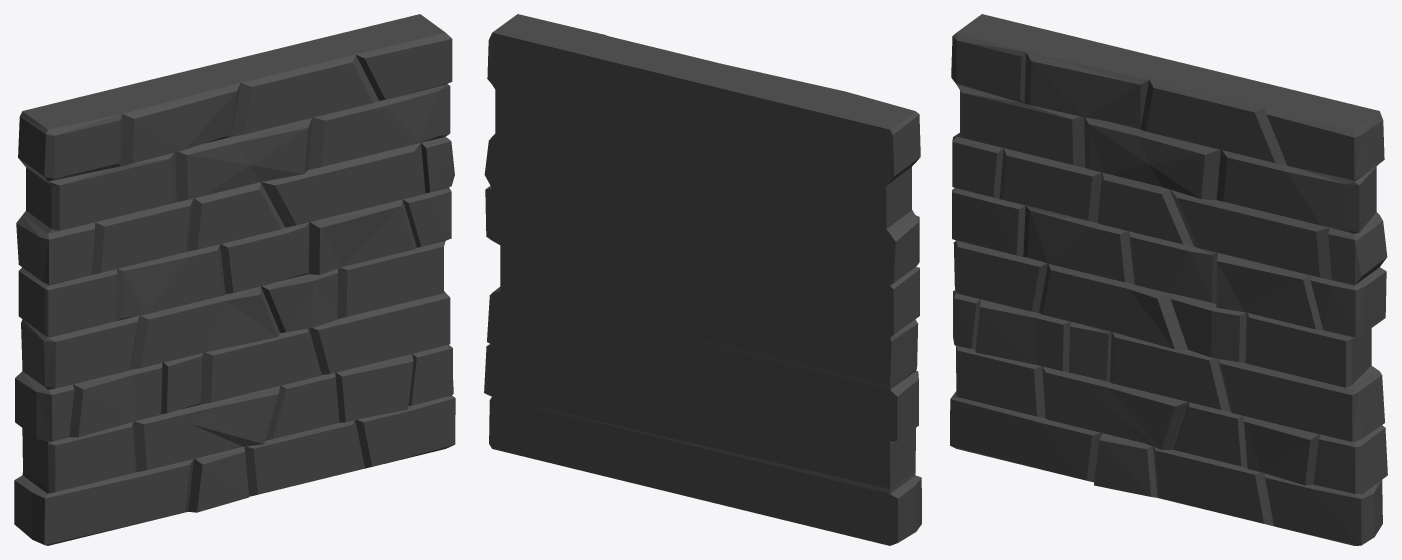
File: Wall.fbx
3 views of the same model, side by side, from view 1: azimuth 30°, elevation 25°; view 2: azimuth 150°, elevation 25°; view 3: azimuth 330°, elevation 25° (orthographic).
Parts seen in each view (by area): view 1: Wall; view 2: Wall; view 3: Wall.
Boxes of the visible parts, <box> form: Wall: <box>14,14,455,545</box>; Wall: <box>484,14,921,545</box>; Wall: <box>950,14,1387,545</box>.
Bounding box in the file's own units: 838 × 800 × 110.
Materials: 1 (1 with a texture image).
